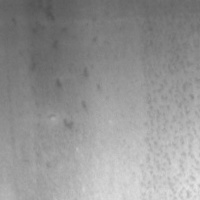pitted_surface: (0, 1, 63, 200), (96, 1, 187, 133)
